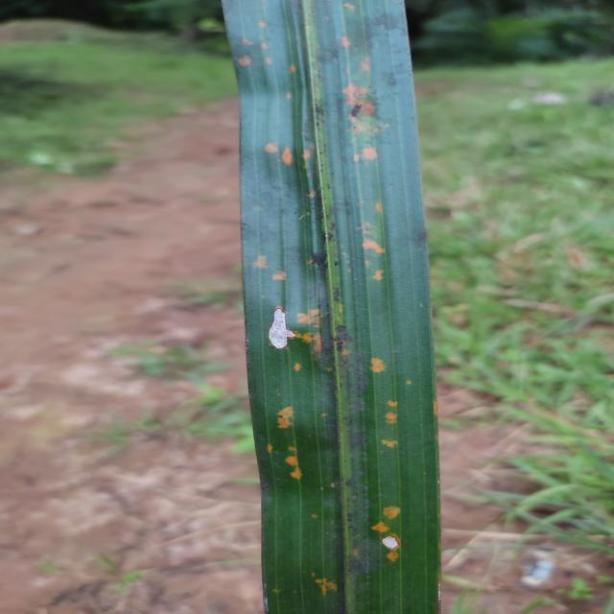Kalium: (219, 0, 441, 614)
